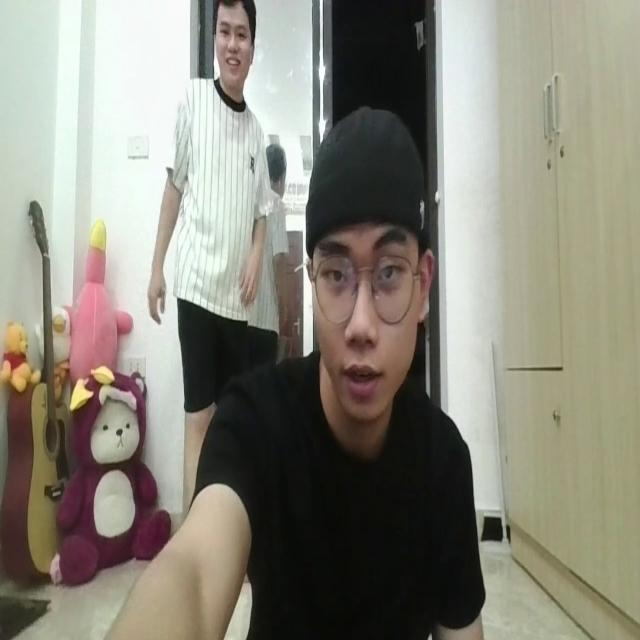extra_person: (146, 0, 275, 467)
student: (164, 112, 486, 640)
